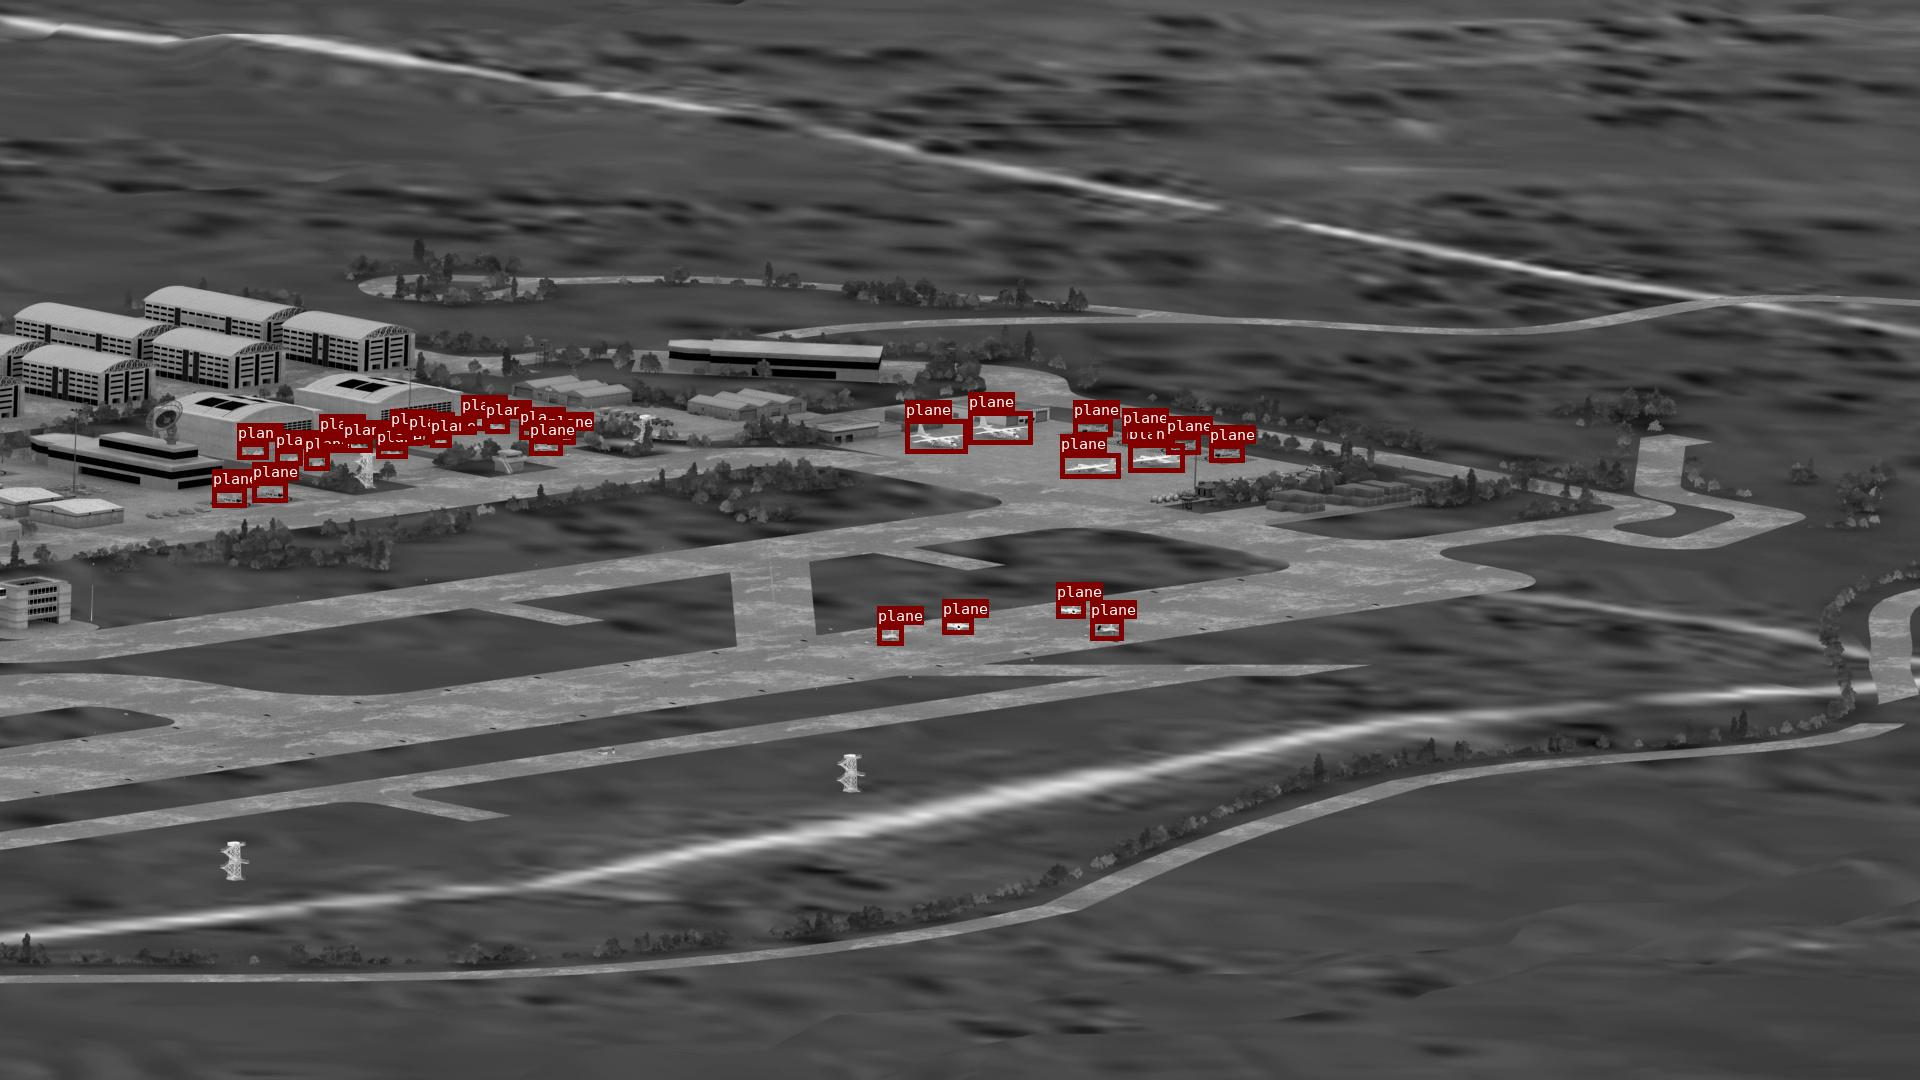plane: (968, 411, 1033, 444), (905, 419, 967, 454), (1127, 443, 1184, 472), (1060, 454, 1120, 477), (252, 481, 287, 502), (1091, 618, 1124, 640), (1073, 419, 1112, 436), (1166, 435, 1200, 454), (212, 488, 247, 506), (1209, 444, 1244, 462), (1122, 427, 1156, 443), (877, 625, 903, 645), (529, 439, 562, 455), (237, 442, 268, 459), (942, 618, 973, 634), (1056, 601, 1085, 618), (276, 448, 302, 465), (319, 433, 347, 448), (462, 414, 487, 430), (343, 439, 372, 452), (305, 454, 328, 469), (376, 446, 407, 458), (547, 431, 575, 444), (520, 426, 546, 439), (485, 419, 509, 433), (407, 431, 429, 444), (430, 435, 451, 447), (390, 429, 407, 439)
